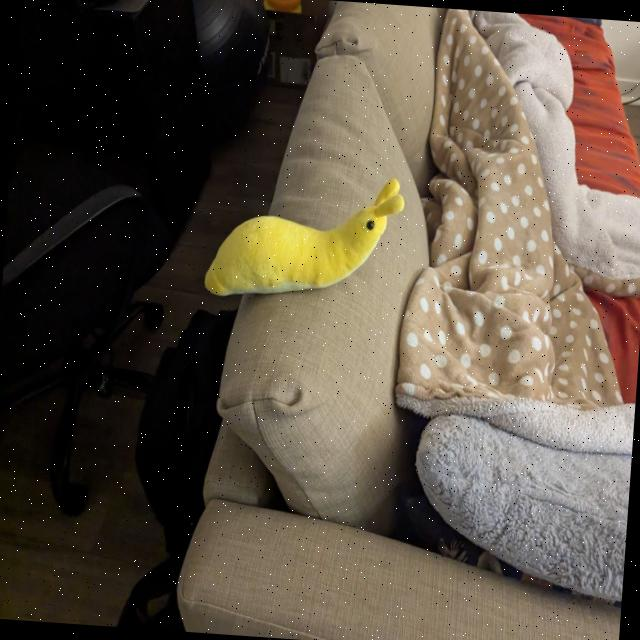banana-slug-toy: (192, 158, 410, 314)
